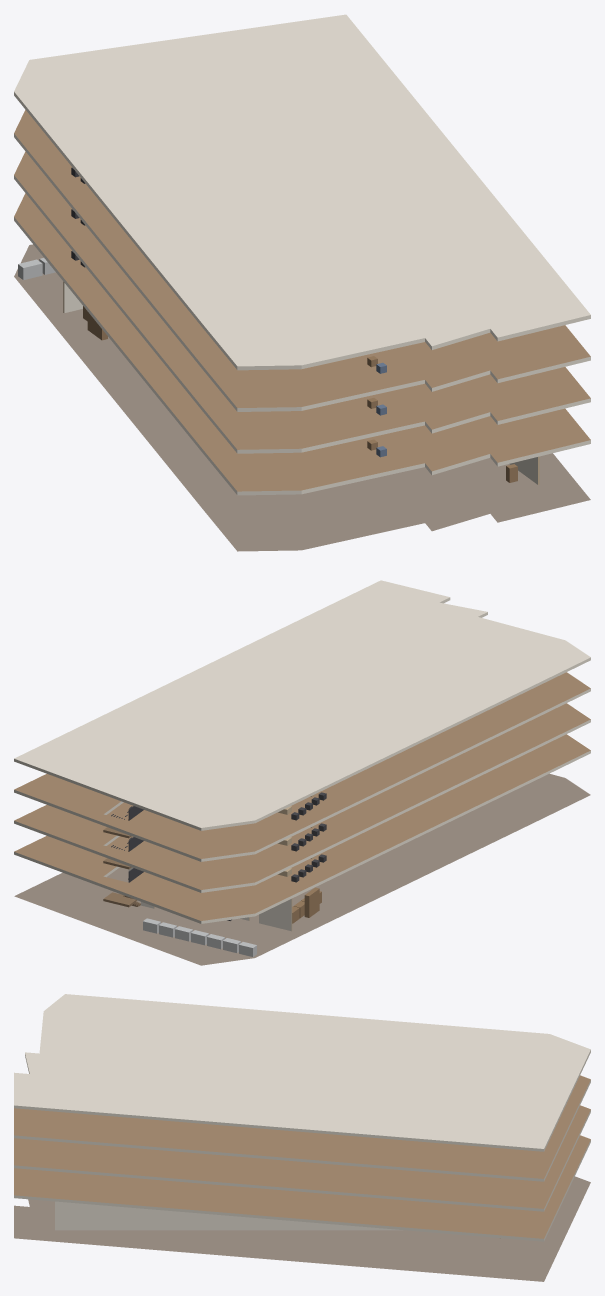
File: interior.glb
The picture shows the model from 3 angles, top to bottom: view 1: azimuth 30°, elevation 25°; view 2: azimuth 150°, elevation 25°; view 3: azimuth 270°, elevation 25°; orthographic projection. The views are drawn at different scales.
Parts seen in each view (by area): view 1: slabs, coarse-s0, partitions; view 2: slabs, coarse-s0, stair, partitions; view 3: slabs, partitions.
Boxes of the visible parts, x1,y1,x2,y2 form: slabs: [14, 14, 590, 551]; coarse-s0: [18, 258, 517, 482]; partitions: [63, 282, 539, 484]; slabs: [14, 580, 590, 965]; coarse-s0: [143, 887, 321, 956]; stair: [103, 806, 143, 907]; partitions: [128, 867, 292, 931]; slabs: [14, 994, 590, 1281]; partitions: [55, 1201, 402, 1230].
Bounding box in the file's own units: 30.84 × 12.35 × 48.51.
